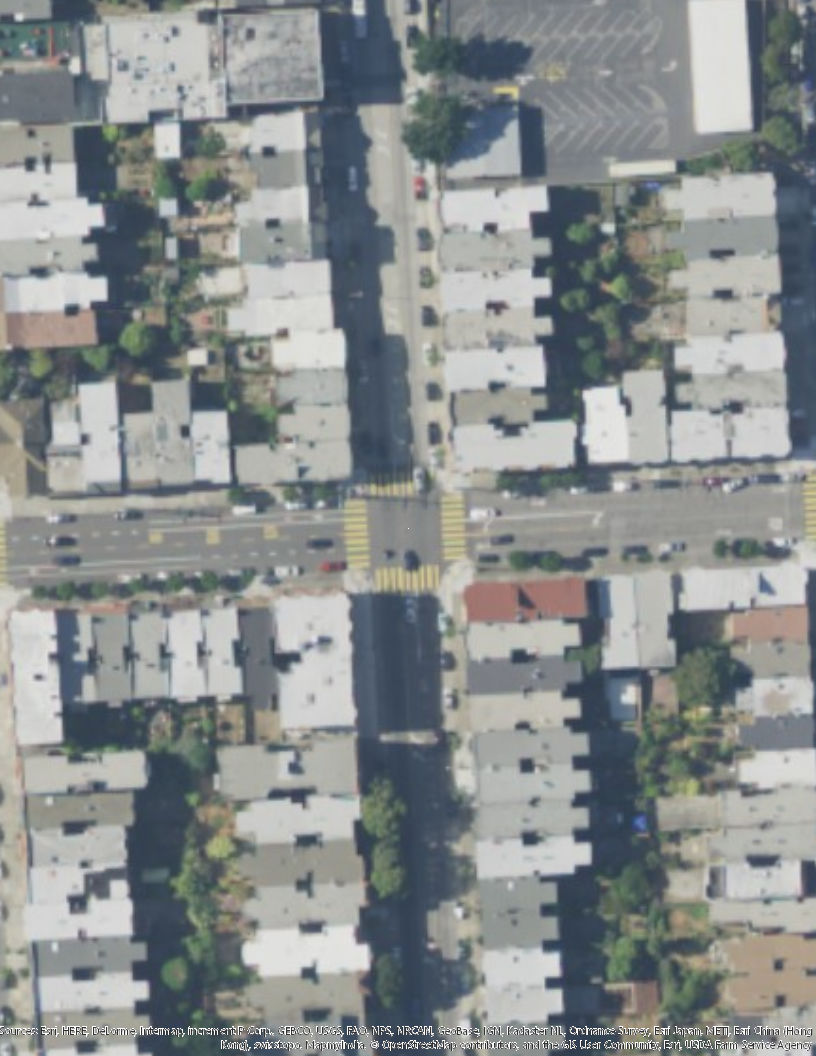zebracross: (440, 489, 466, 563), (344, 499, 370, 564), (365, 469, 423, 498), (371, 567, 442, 589), (803, 470, 816, 541)
